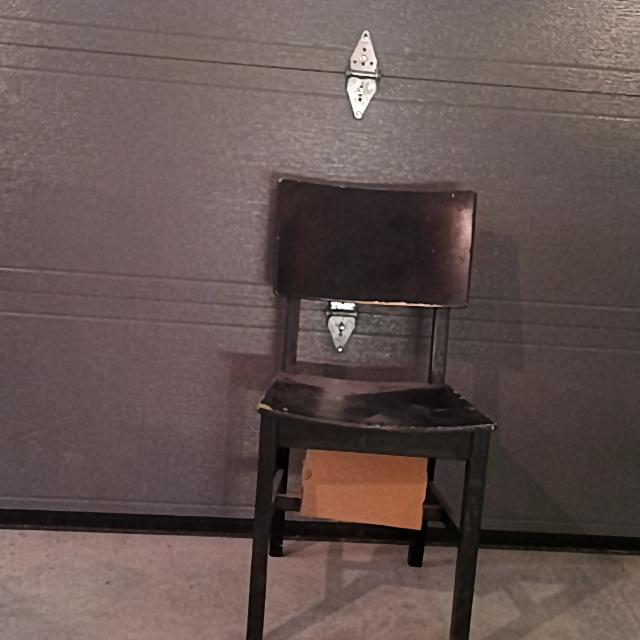box: (302, 457, 430, 519)
